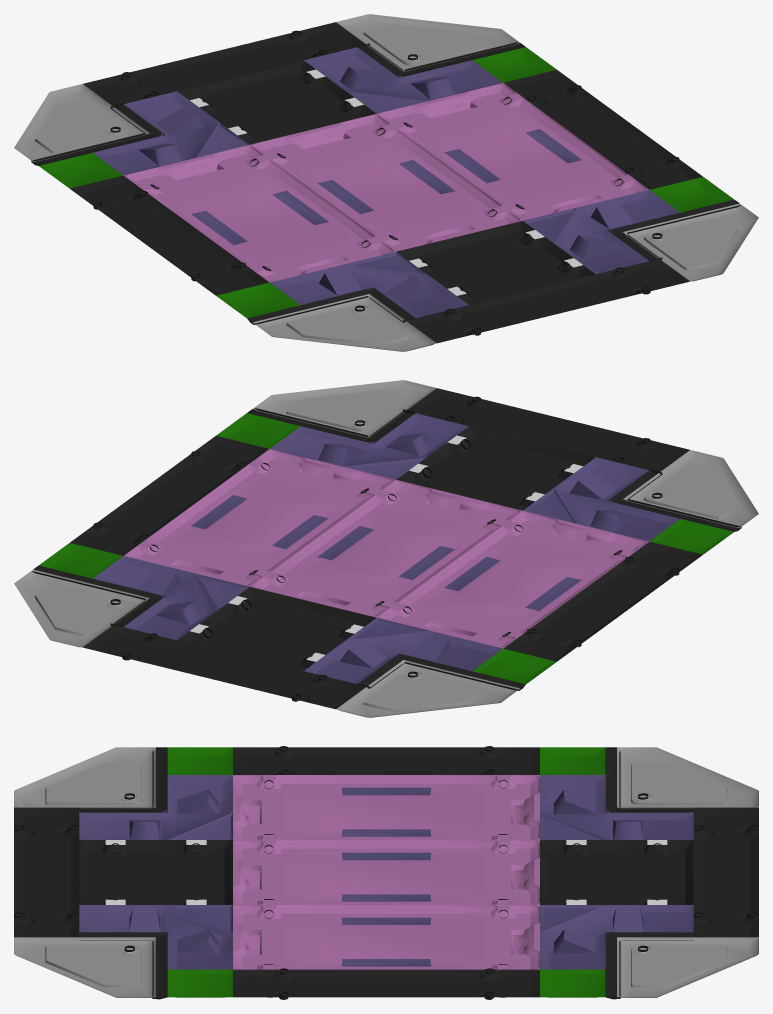
Rendered from Building_D_Room_A_Ceiling_A.fbx.
3 renders of one model, top to bottom at view 1: azimuth 30°, elevation 25°; view 2: azimuth 150°, elevation 25°; view 3: azimuth 270°, elevation 25°, orthographic. The views are drawn at different scales.
Parts seen in each view (by area): view 1: Geom_Building_D_Room_A_Ceiling_A_LOD00; view 2: Geom_Building_D_Room_A_Ceiling_A_LOD00; view 3: Geom_Building_D_Room_A_Ceiling_A_LOD00.
Boxes of the visible parts, x1,y1,x2,y2 form: Geom_Building_D_Room_A_Ceiling_A_LOD00: (14,14,758,351); Geom_Building_D_Room_A_Ceiling_A_LOD00: (14,380,758,717); Geom_Building_D_Room_A_Ceiling_A_LOD00: (14,746,758,999).
Size of what is drawn, in the model's own units: 1540 by 49.47 by 1940.
